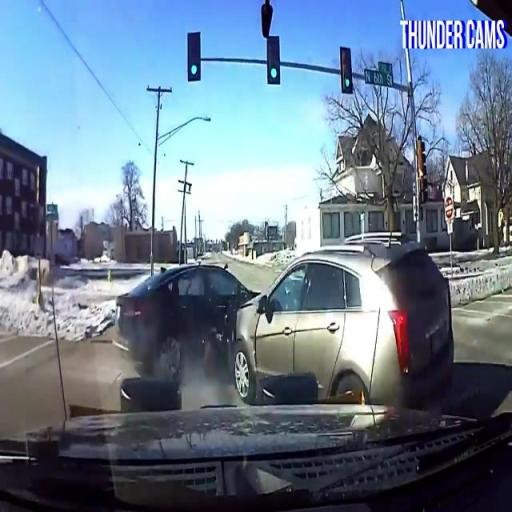小汽车撞小汽车: (113, 248, 449, 403)
